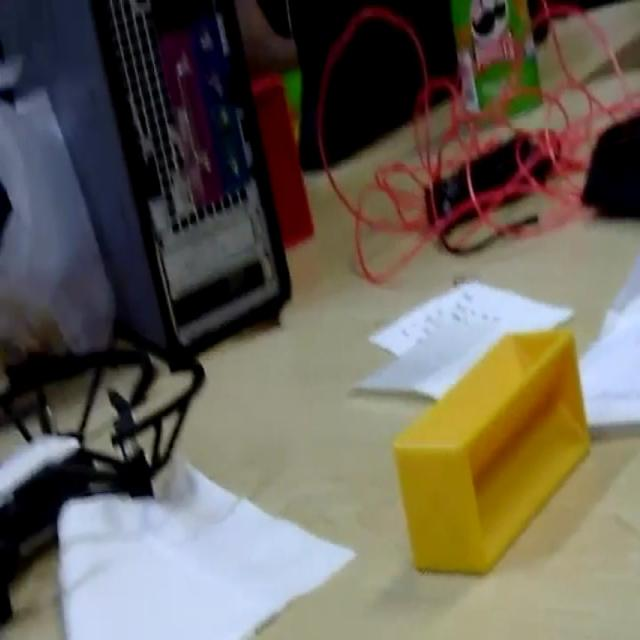yellow_block: (392, 324, 592, 575)
